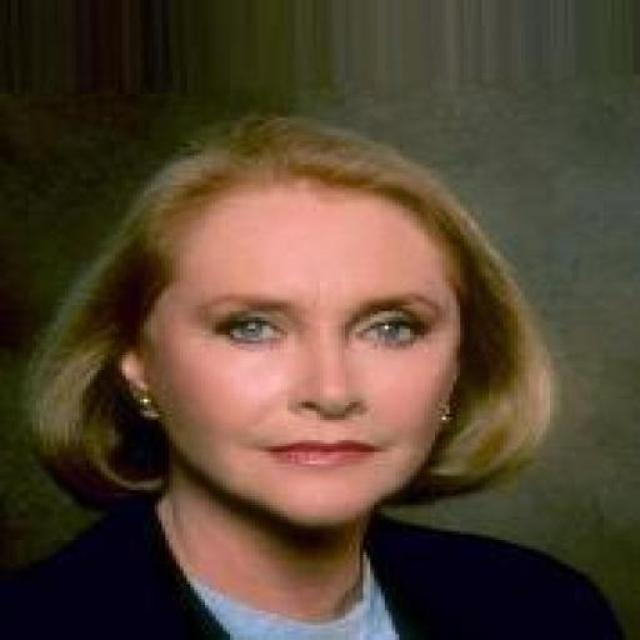bareface: (153, 168, 465, 522)
